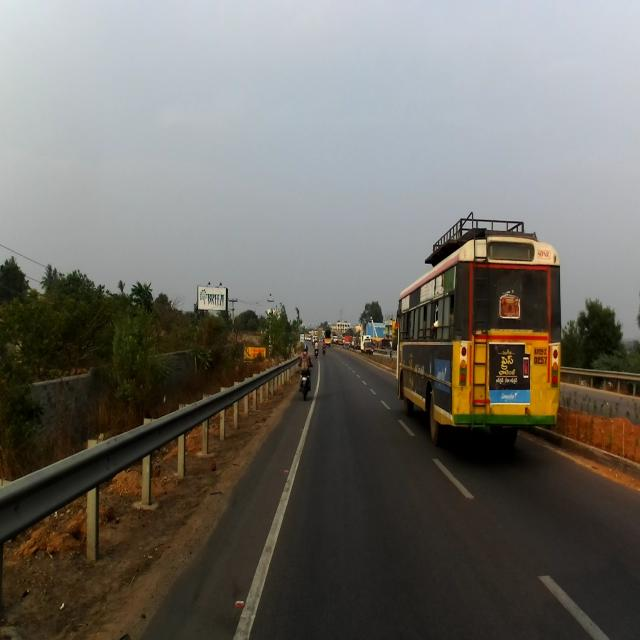bus: (396, 212, 562, 451)
